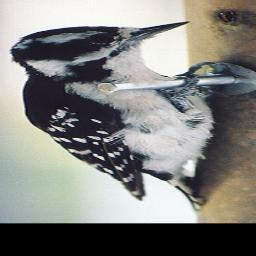Woodpecker: (9, 21, 229, 212)
